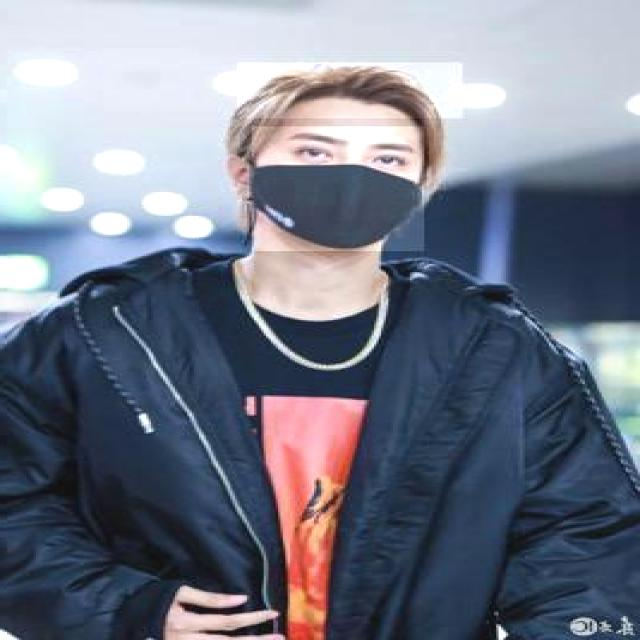face_mask: (252, 126, 424, 252)
hand_noglove: (148, 585, 287, 640)
head_nohelmet: (235, 62, 463, 120)
person: (2, 49, 626, 638)
